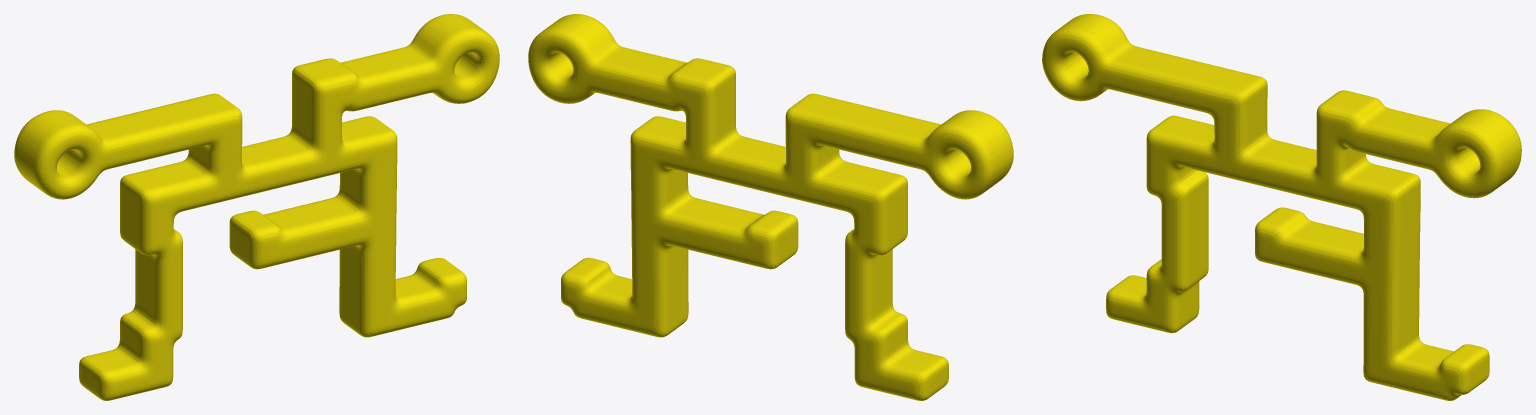
File: chewmodel04.glb
3 views of the same model, side by side, from view 1: azimuth 30°, elevation 25°; view 2: azimuth 150°, elevation 25°; view 3: azimuth 330°, elevation 25° (orthographic).
Visible parts, largest first — view 1: extrude.C.G; view 2: extrude.C.G; view 3: extrude.C.G.
Part boxes in pixels (x1,y1,x2,y2): extrude.C.G: [14, 14, 499, 400]; extrude.C.G: [528, 14, 1013, 400]; extrude.C.G: [1042, 14, 1521, 400].
Size of the model in its own units: 370 by 216 by 41.23.
